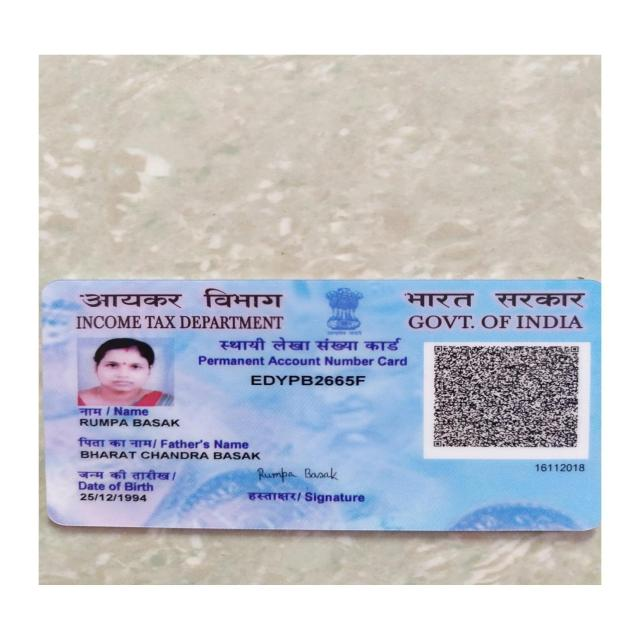pan_card: (47, 280, 598, 526)
